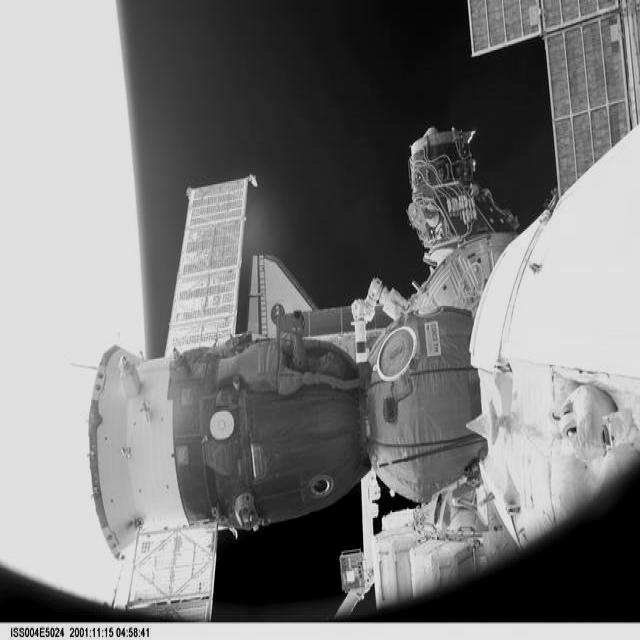satellite: (89, 0, 640, 619)
